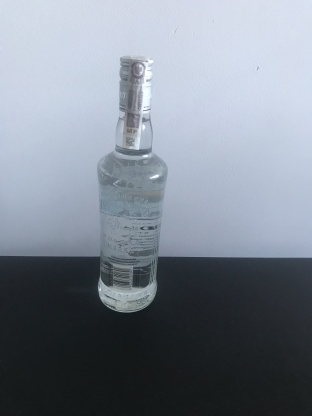nakretka: (115, 50, 156, 115)
